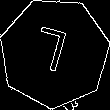L_S: (33, 24, 76, 82)
